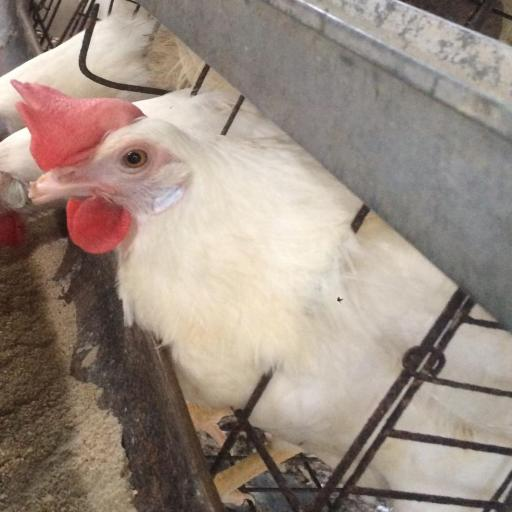healthy: (6, 67, 208, 278)
